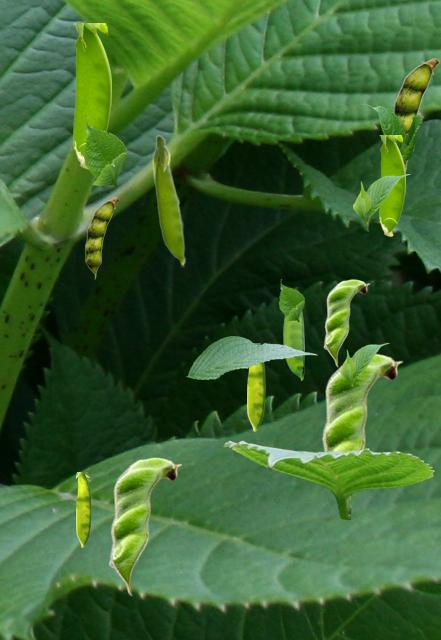pea: (108, 457, 181, 595), (319, 353, 402, 450), (73, 23, 110, 168), (393, 58, 438, 171), (152, 134, 185, 266), (323, 279, 369, 366), (85, 197, 118, 278), (379, 135, 404, 235), (247, 343, 264, 430), (283, 311, 303, 379), (76, 472, 90, 546)
